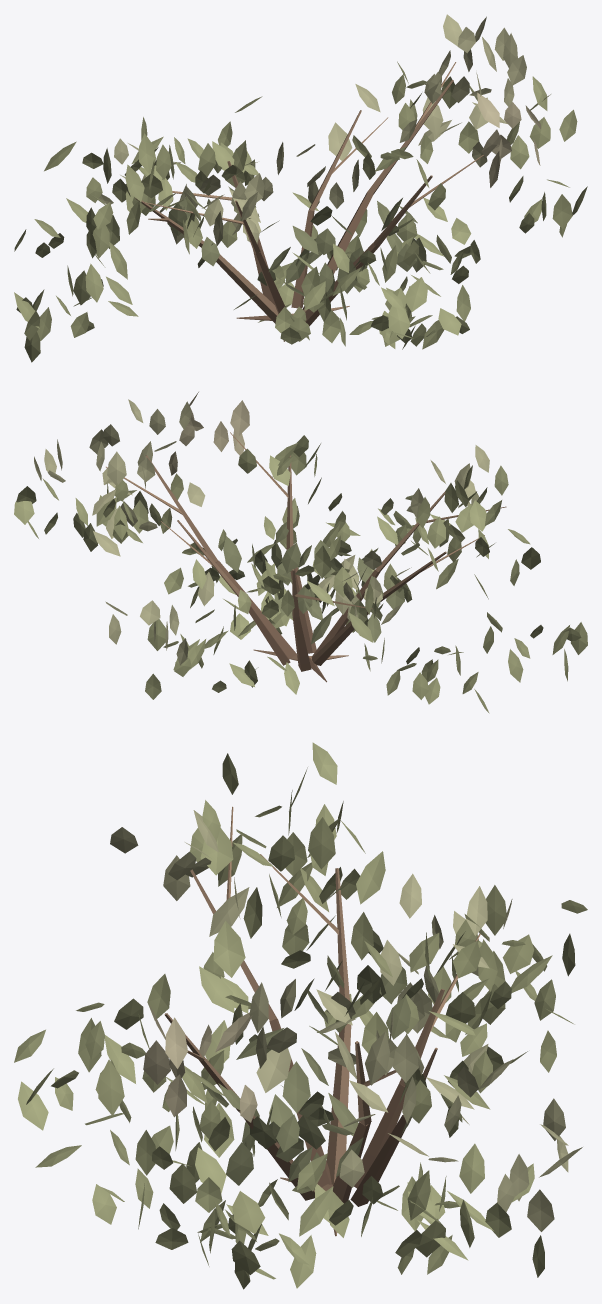
Rendered from bush_3d_02.glb.
3 renders of one model, top to bottom at view 1: azimuth 30°, elevation 25°; view 2: azimuth 150°, elevation 25°; view 3: azimuth 270°, elevation 25°, orthographic. The views are drawn at different scales.
Visible parts, largest first — view 1: bush_3d_02_foliage, bush_3d_02_wood; view 2: bush_3d_02_foliage, bush_3d_02_wood; view 3: bush_3d_02_foliage, bush_3d_02_wood.
Part boxes in pixels (x1,y1,x2,y2): bush_3d_02_foliage: (14, 14, 587, 362); bush_3d_02_wood: (135, 62, 483, 341); bush_3d_02_foliage: (14, 392, 587, 713); bush_3d_02_wood: (106, 432, 506, 682); bush_3d_02_foliage: (14, 742, 587, 1289); bush_3d_02_wood: (164, 806, 480, 1236).
Size of the model in its own units: 3.4 by 1.45 by 2.1.
